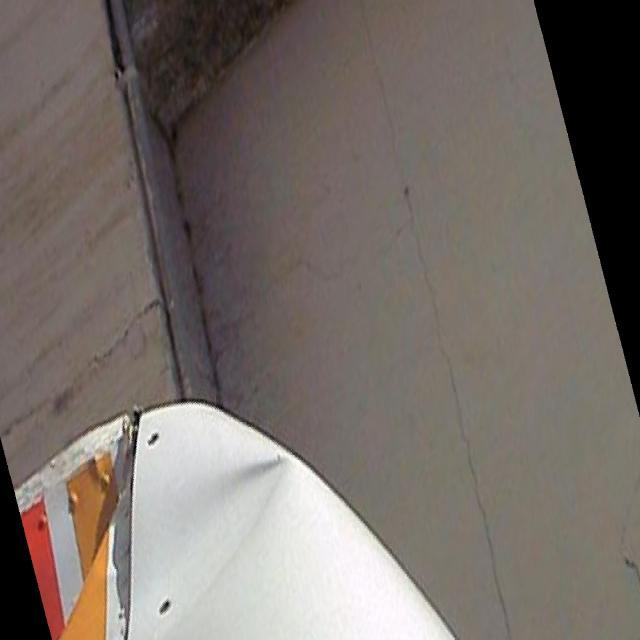dent: (127, 403, 285, 608)
